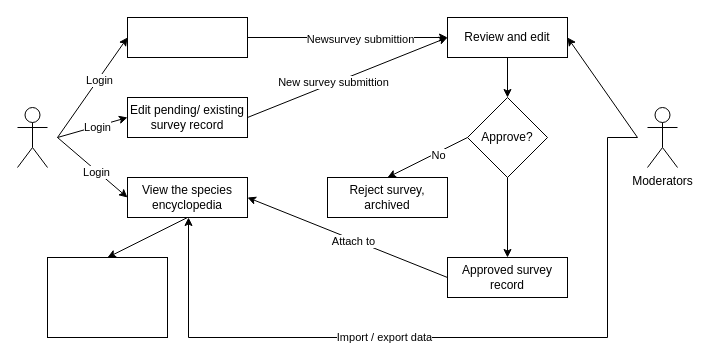
Image size: 710x363. Some labels were removed from this diagram. The shapes that lost their labels are listed below. From the top down, each one's centre as x and y in pixels, then its label:
point (187, 37): Submit survey record
point (32, 137): Users
point (107, 297): Exported survey records or species pages
